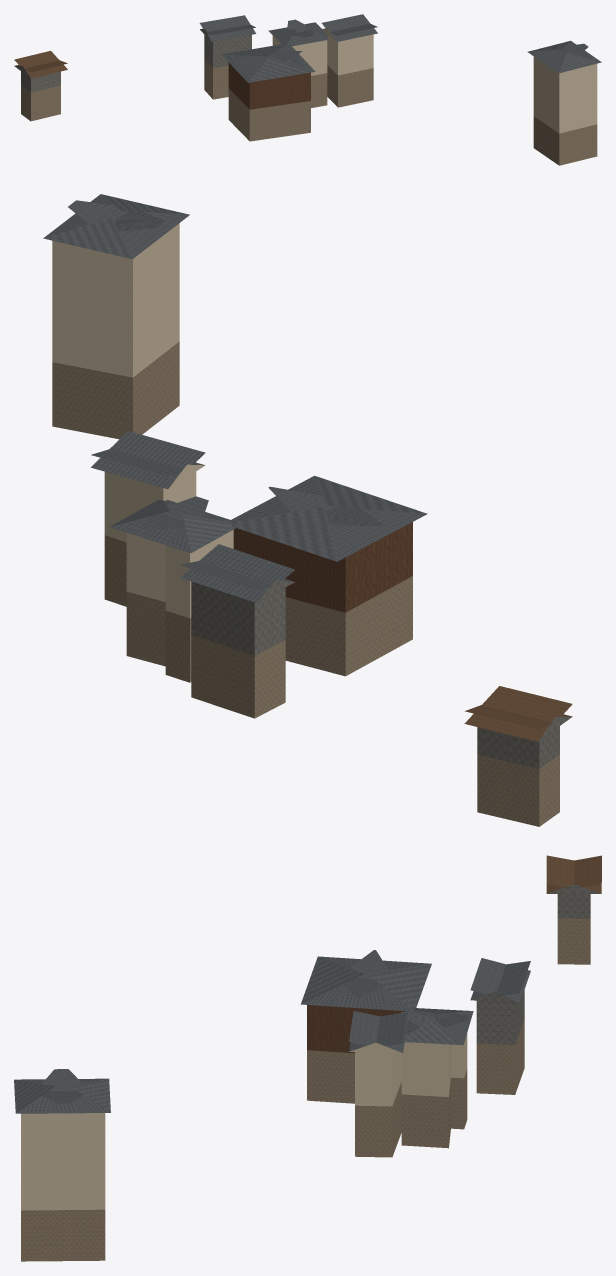
Rendered from bld_c33_-39_446.gltf.
3 views of the same model, one above another, from view 1: azimuth 30°, elevation 25°; view 2: azimuth 150°, elevation 25°; view 3: azimuth 270°, elevation 25° (orthographic). The views are drawn at different scales.
Visible parts, largest first — view 1: bld_c33_-39_446; view 2: bld_c33_-39_446; view 3: bld_c33_-39_446.
Boxes of the visible parts, left/top/right/bottom form: bld_c33_-39_446: left=14, top=14, right=601, bottom=165; bld_c33_-39_446: left=43, top=194, right=572, bottom=826; bld_c33_-39_446: left=14, top=855, right=601, bottom=1261.
Bounding box in the file's own units: 66.93 × 16 × 53.24.
8 materials, 8 textured.
